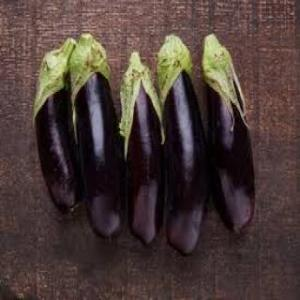eggplant: (71, 33, 125, 235), (200, 33, 254, 231), (159, 35, 205, 252), (34, 45, 80, 213), (121, 50, 161, 242)
